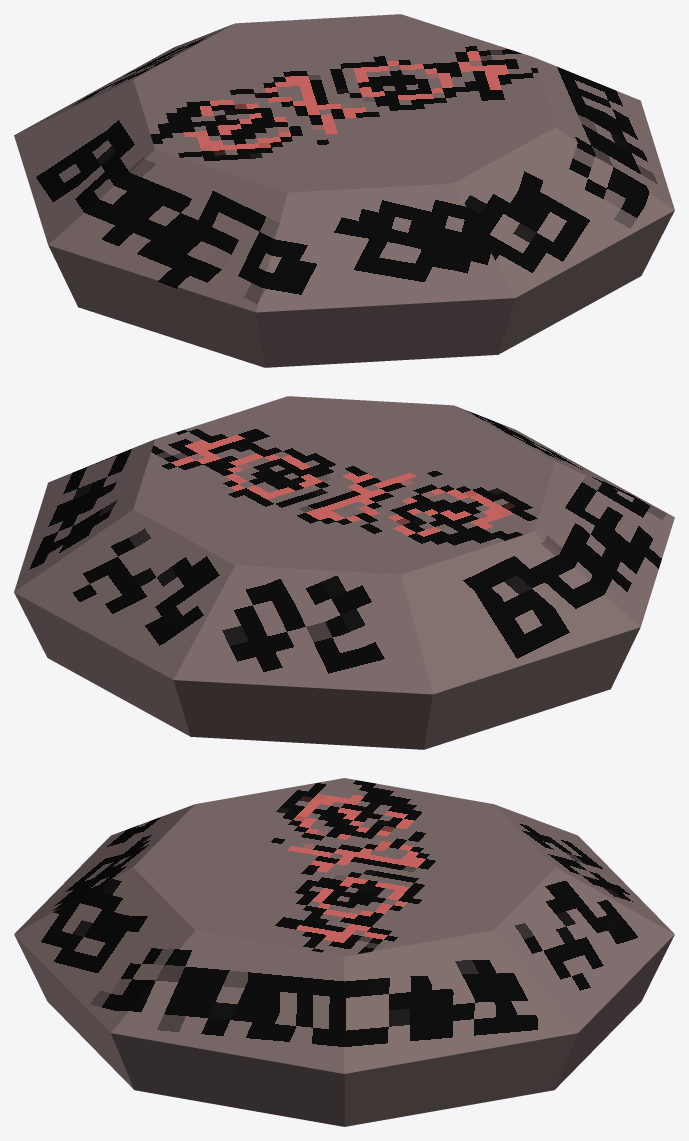
The model's file is GlassBottleCap.fbx.
The picture shows the model from 3 angles, top to bottom: view 1: azimuth 30°, elevation 25°; view 2: azimuth 150°, elevation 25°; view 3: azimuth 270°, elevation 25°; orthographic projection. The views are drawn at different scales.
Visible parts, largest first — view 1: Bottle Cap; view 2: Bottle Cap; view 3: Bottle Cap.
Boxes of the visible parts, bbox=[...] form: Bottle Cap: bbox=[14, 14, 674, 367]; Bottle Cap: bbox=[14, 396, 674, 749]; Bottle Cap: bbox=[14, 778, 674, 1126].
Bounding box in the file's own units: 63.25 × 63.25 × 14.17.
1 material, 1 textured.
